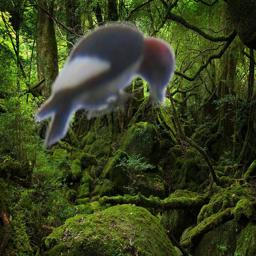Woodpecker: (31, 20, 180, 150)
